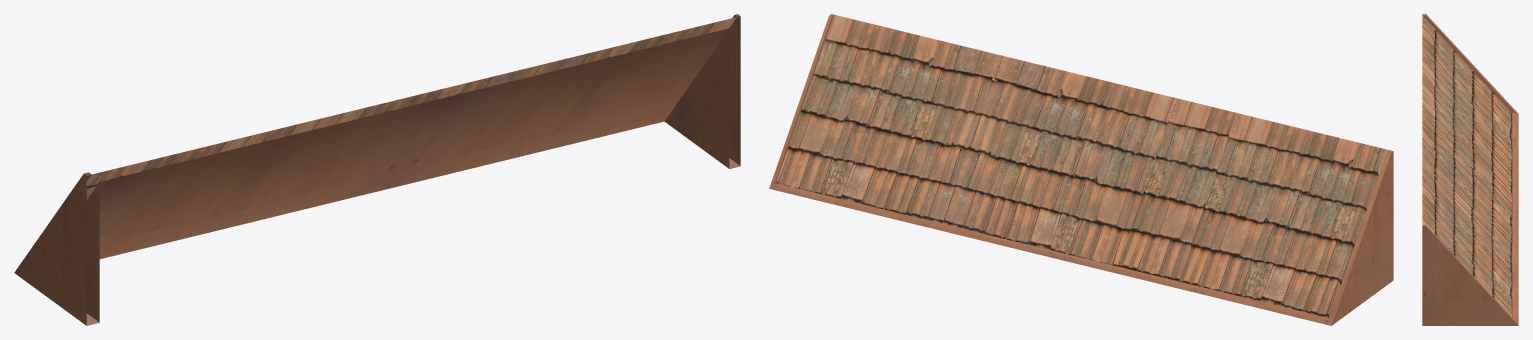
3 renders of one model, left to right at view 1: azimuth 30°, elevation 25°; view 2: azimuth 150°, elevation 25°; view 3: azimuth 270°, elevation 25°, orthographic. The views are drawn at different scales.
Visible parts, largest first — view 1: Awn (2); view 2: Awn (2); view 3: Awn (2).
Part boxes in pixels (box(x1,y1,x2,y2)): Awn (2): box(14, 14, 740, 325); Awn (2): box(769, 14, 1393, 325); Awn (2): box(1422, 14, 1518, 325).
Bounding box in the file's own units: 1295 × 284 × 249.
